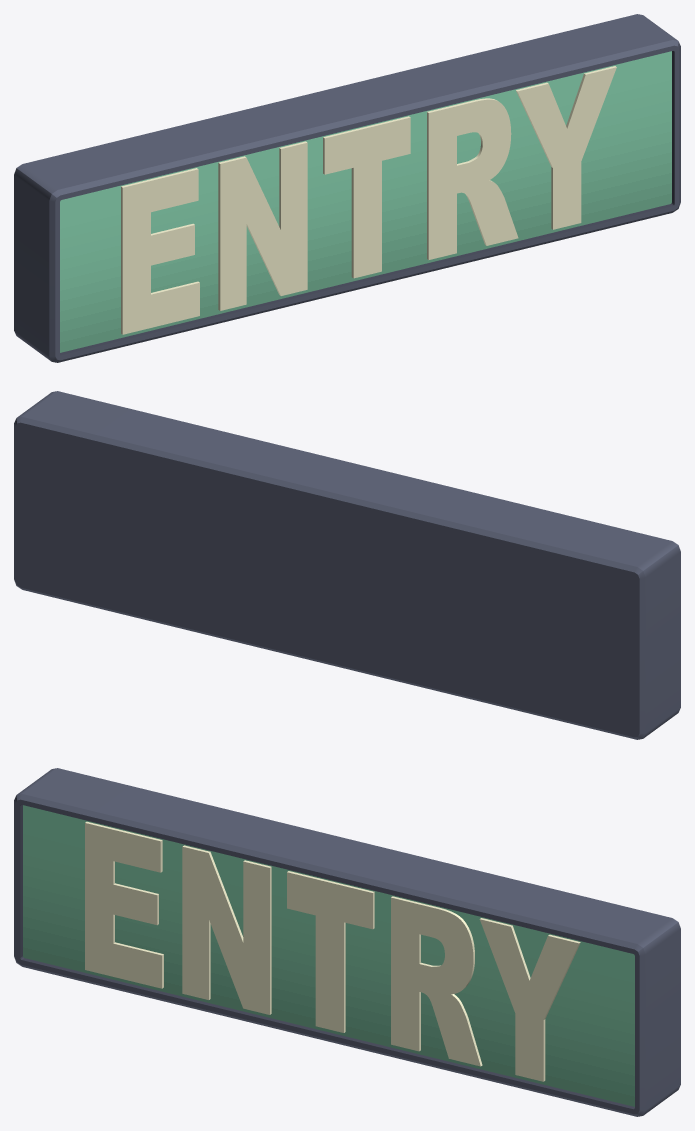
Rendered from SM_entrysign.fbx.
The picture shows the model from 3 angles, top to bottom: view 1: azimuth 30°, elevation 25°; view 2: azimuth 150°, elevation 25°; view 3: azimuth 330°, elevation 25°; orthographic projection.
Parts seen in each view (by area): view 1: entry_sign; view 2: entry_sign; view 3: entry_sign.
Part boxes in pixels (bbox=[...]): entry_sign: bbox=[14, 14, 680, 362]; entry_sign: bbox=[14, 391, 680, 739]; entry_sign: bbox=[14, 768, 680, 1116].
Size of the model in its own units: 96.9 by 25.36 by 10.56.
